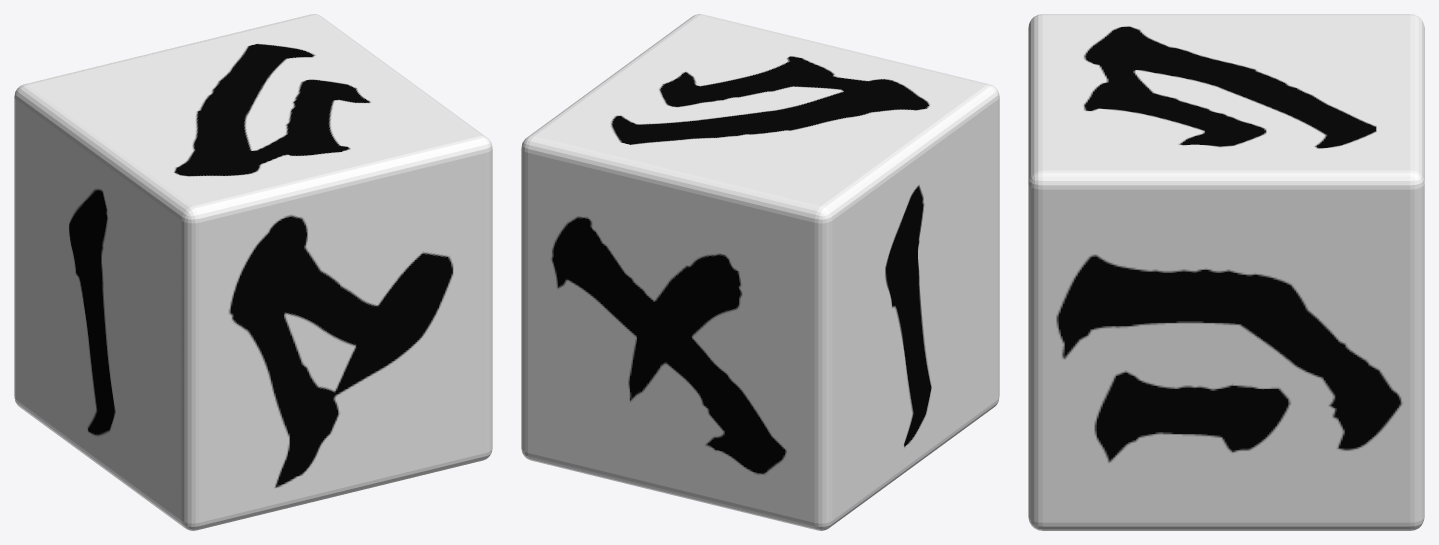
Rendered from xmas_dice.glb.
3 views of the same model, side by side, from view 1: azimuth 30°, elevation 25°; view 2: azimuth 150°, elevation 25°; view 3: azimuth 270°, elevation 25° (orthographic). The views are drawn at different scales.
Visible parts, largest first — view 1: 立方体; view 2: 立方体; view 3: 立方体.
Boxes of the visible parts, x1=… form: 立方体: x1=14, y1=14, x2=492, y2=530; 立方体: x1=521, y1=14, x2=999, y2=530; 立方体: x1=1028, y1=14, x2=1424, y2=530.
Bounding box in the file's own units: 1.98 × 1.98 × 1.98.
1 material, 1 textured.
